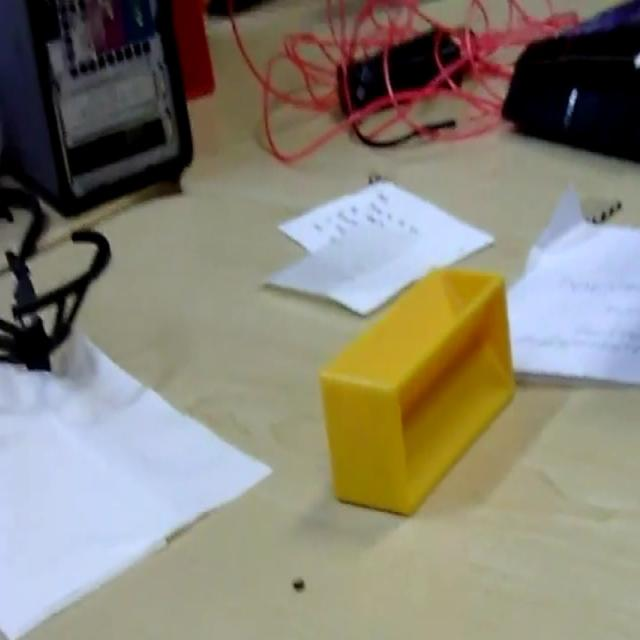yellow_block: (318, 264, 516, 516)
